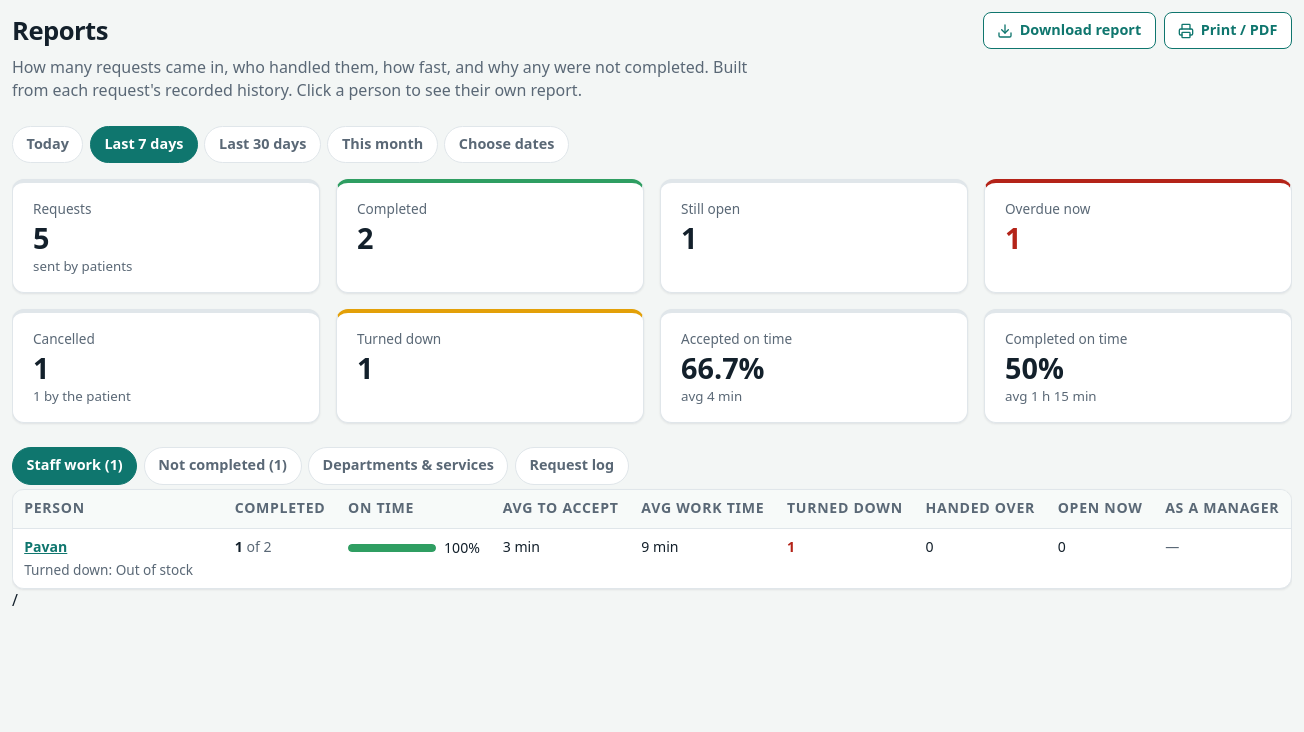
Test case: Reports › filters the request log by person
The width and height of the screenshot is (1304, 732).
Click the button "Request log".
click(572, 466)  # box [515, 447, 629, 485]
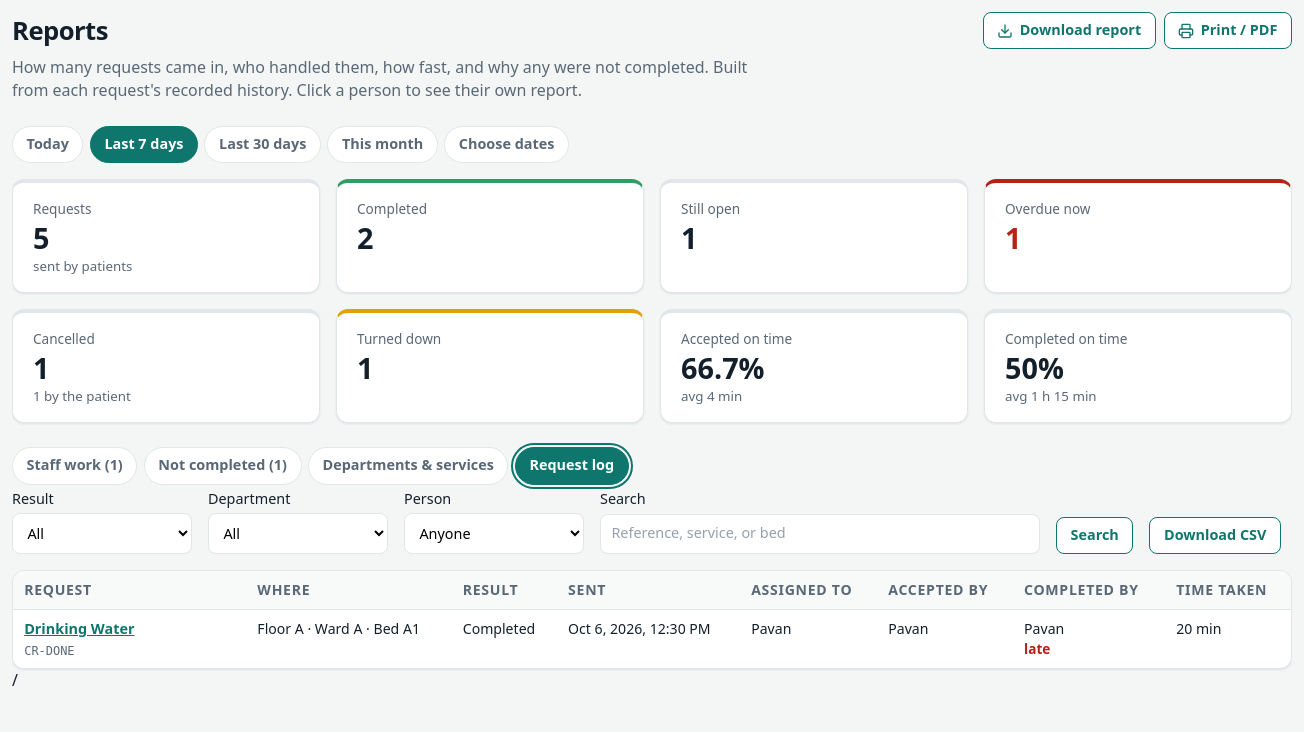
Select "Pavan" in the dropdown labelled "Person" at (494, 534), box [404, 513, 584, 554]
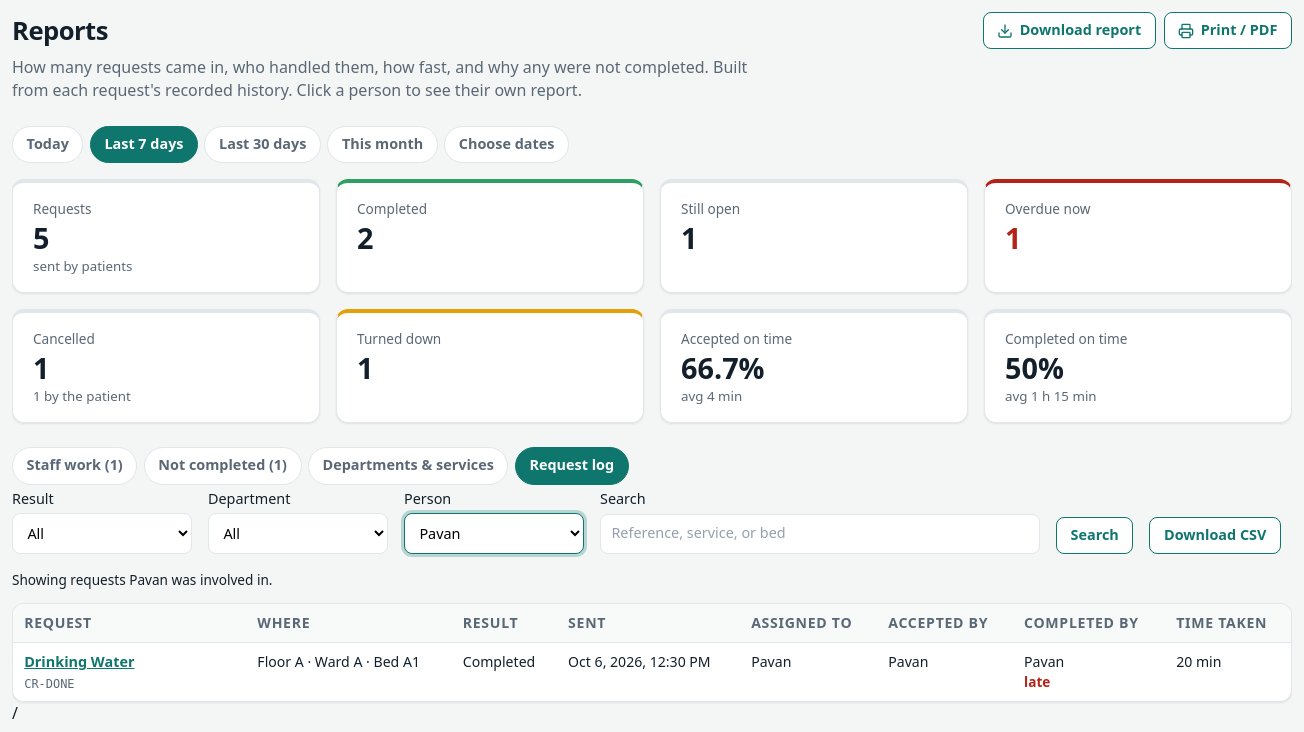
expect the text "CR-DONE" is shown: met, box [24, 677, 75, 691]
expect the text "late" is shown: met, box [1024, 672, 1050, 692]
expect the text "Showing requests Pavan was involved in." is shown: met, box [12, 570, 272, 589]
